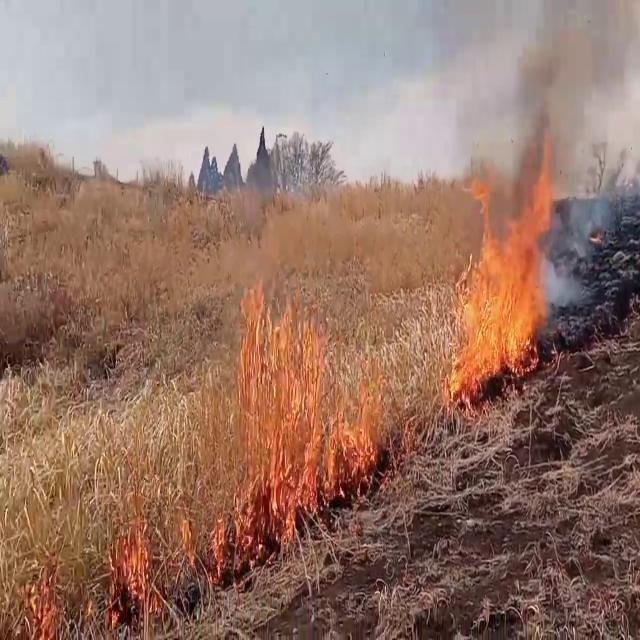Fire: (228, 247, 384, 533), (446, 128, 560, 391), (324, 359, 385, 493)
Smoke: (439, 0, 640, 262)
